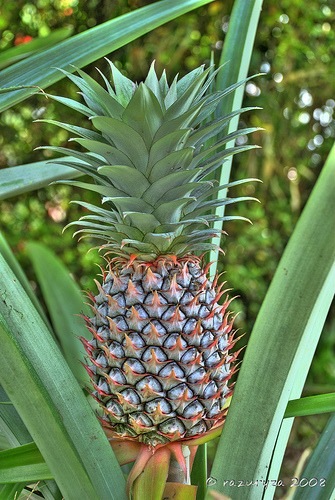pineapple: (33, 55, 266, 443)
